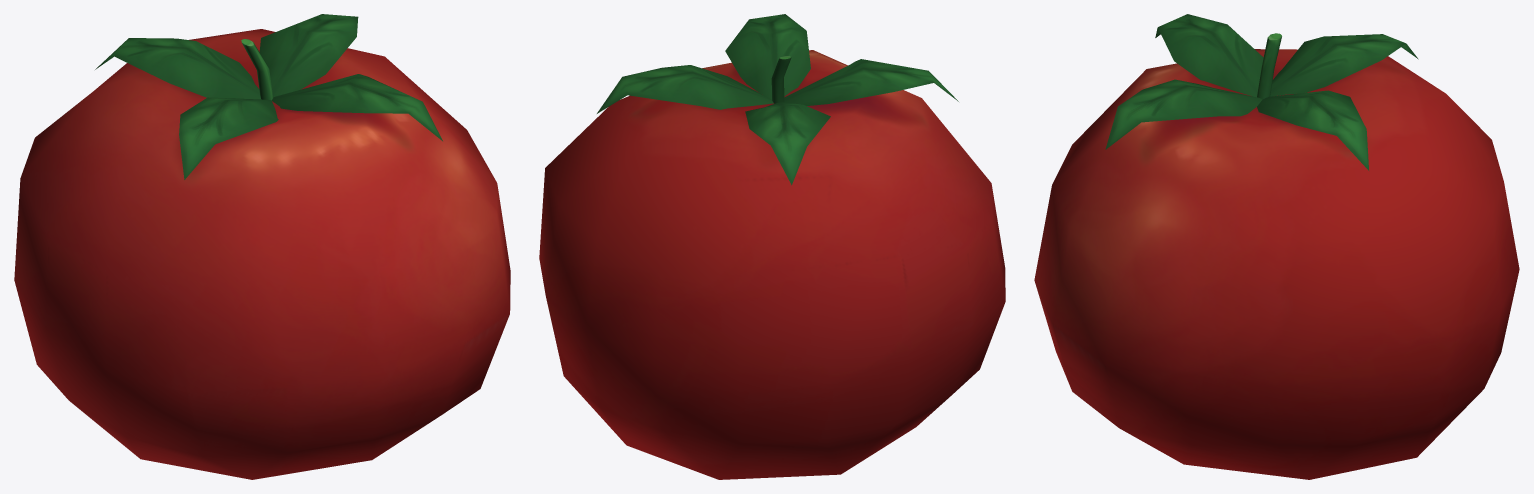
File: tomato.fbx
The picture shows the model from 3 angles, left to right: view 1: azimuth 30°, elevation 25°; view 2: azimuth 150°, elevation 25°; view 3: azimuth 270°, elevation 25°; orthographic projection. The views are drawn at different scales.
Visible parts, largest first — view 1: tomato; view 2: tomato; view 3: tomato.
Boxes of the visible parts, <box> form: tomato: <box>14,14,510,479</box>; tomato: <box>539,14,1005,479</box>; tomato: <box>1034,14,1519,479</box>.
Size of the model in its own units: 17.05 by 15.45 by 17.03.
